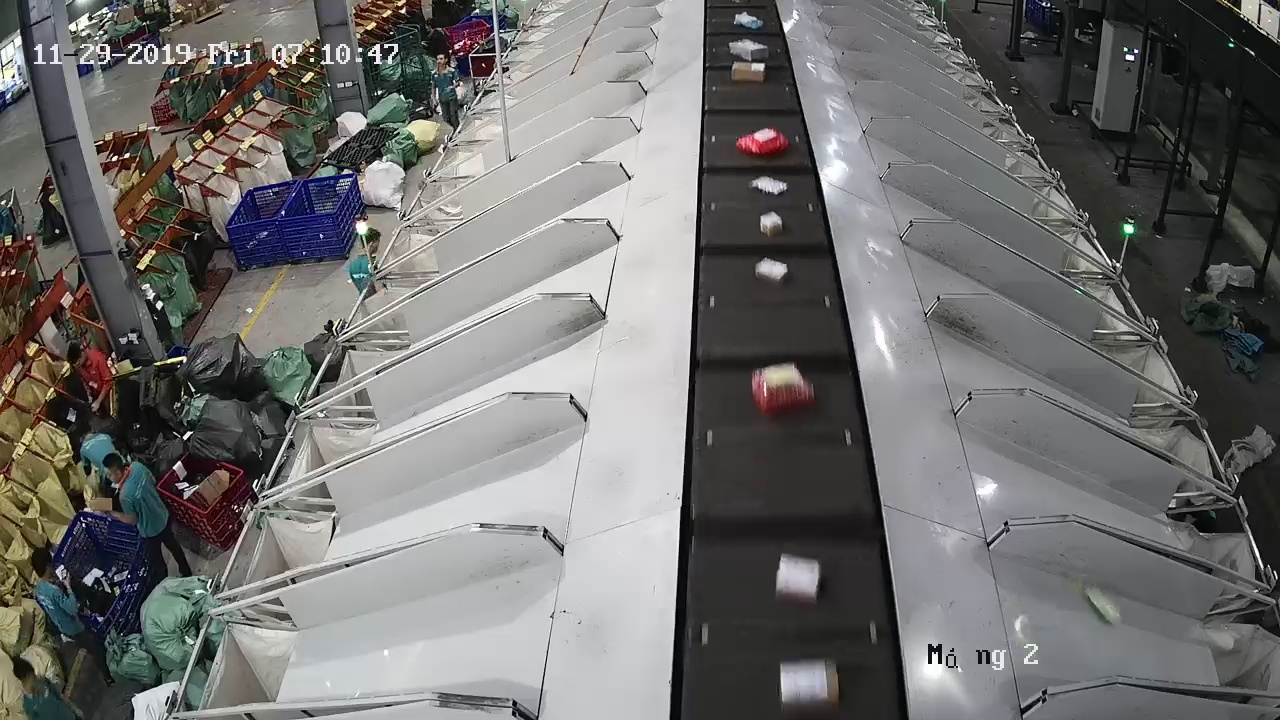parcel: (778, 656, 841, 718), (752, 360, 816, 417), (774, 552, 820, 605), (735, 127, 789, 159), (755, 257, 789, 286), (753, 175, 788, 197), (759, 210, 783, 238)
